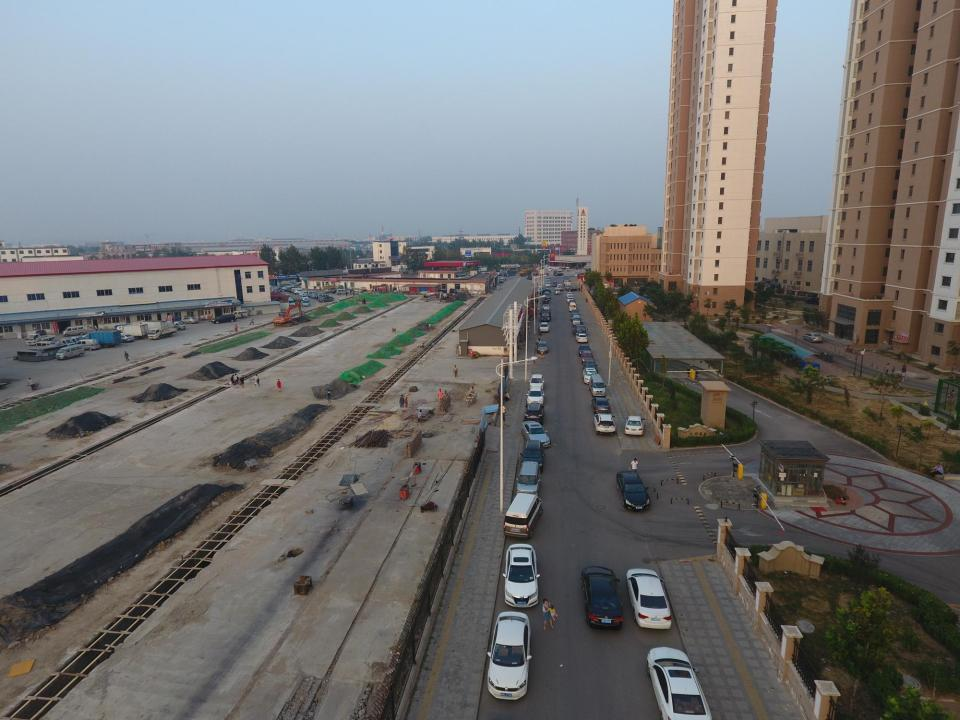car: (647, 648, 713, 720), (488, 611, 532, 701), (626, 568, 672, 630), (580, 567, 621, 632), (502, 544, 539, 608), (618, 470, 652, 512), (520, 439, 546, 473), (522, 420, 550, 448), (595, 414, 616, 434), (624, 416, 644, 436), (525, 400, 543, 422), (580, 365, 597, 386), (526, 386, 544, 404), (592, 398, 610, 414), (527, 374, 544, 390), (534, 342, 549, 354), (804, 332, 823, 340), (574, 323, 585, 336), (582, 350, 592, 364), (337, 288, 355, 295), (538, 321, 550, 331), (577, 331, 587, 343), (317, 295, 333, 301), (541, 300, 549, 312), (322, 285, 332, 294), (572, 314, 580, 324), (578, 342, 587, 350), (299, 299, 308, 307), (570, 300, 577, 310), (544, 287, 551, 297), (295, 288, 305, 294), (544, 276, 553, 282), (540, 314, 548, 320), (308, 290, 316, 296), (567, 292, 574, 296)
truck: (24, 328, 57, 345), (148, 320, 175, 340), (84, 330, 121, 344), (118, 322, 147, 338)
van: (504, 494, 541, 537), (517, 461, 540, 496), (59, 345, 88, 360), (587, 371, 603, 397), (269, 290, 294, 301), (210, 312, 237, 322), (58, 338, 82, 348), (62, 326, 88, 335), (232, 309, 248, 318), (34, 341, 54, 348), (181, 316, 201, 323)
